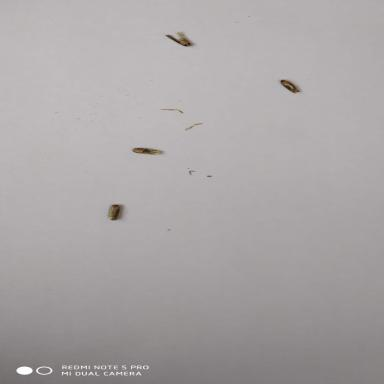pbw: (161, 31, 199, 49), (125, 144, 164, 157), (275, 78, 302, 94), (101, 204, 128, 220)
